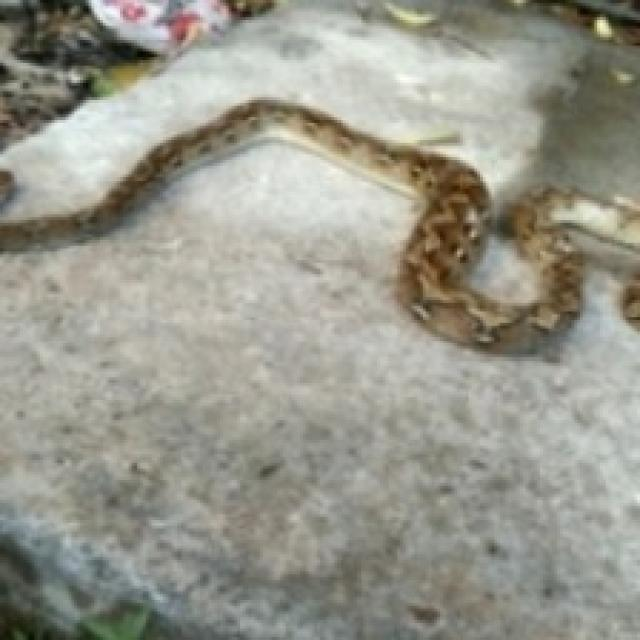reticulated python: (0, 97, 637, 349)
